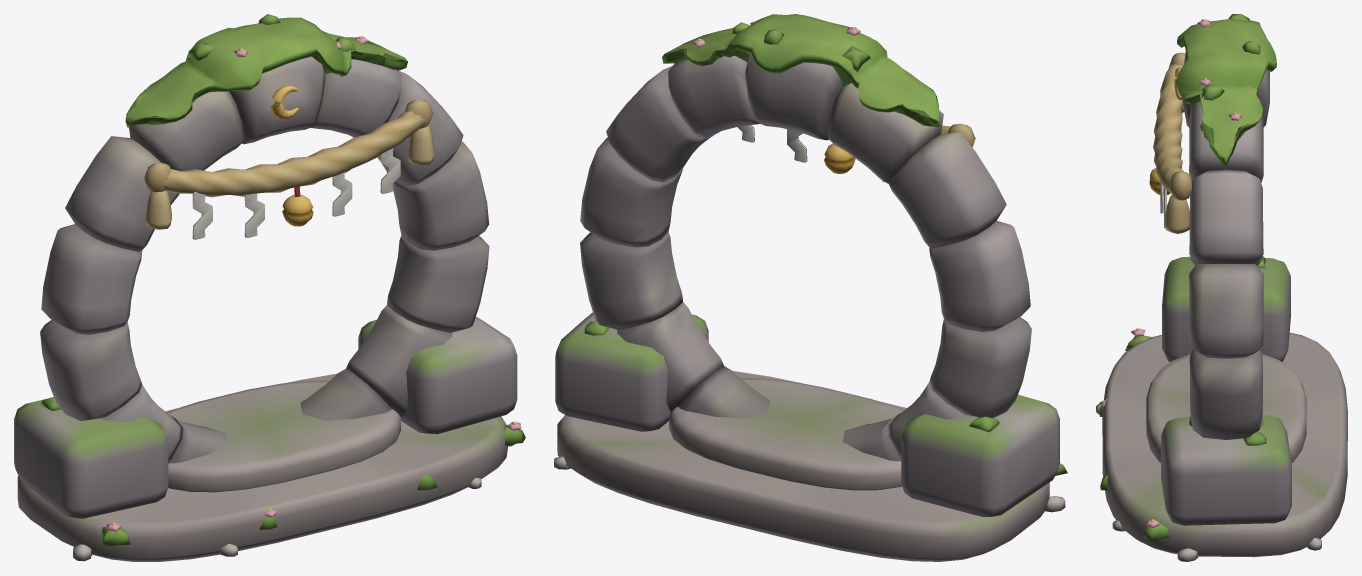
The model's file is moon-gate.glb.
3 views of the same model, side by side, from view 1: azimuth 30°, elevation 25°; view 2: azimuth 150°, elevation 25°; view 3: azimuth 270°, elevation 25° (orthographic). The views are drawn at different scales.
Visible parts, largest first — view 1: frame; view 2: frame; view 3: frame.
Part boxes in pixels (x1,y1,x2,y2): frame: (14,14,525,561); frame: (554,14,1067,561); frame: (1096,14,1347,561).
Size of the model in its own units: 2.81 by 2.68 by 1.43.
